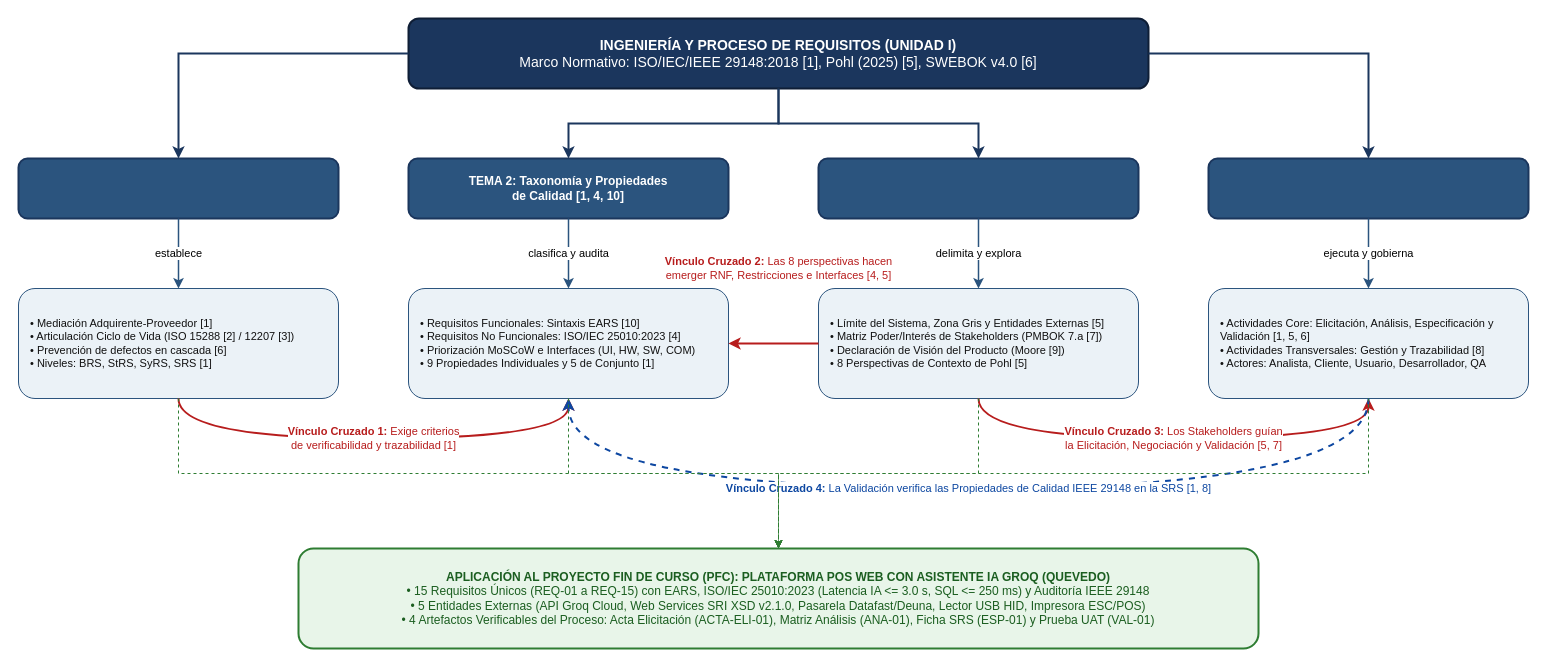
The diagram is 1546 pixels wide and 666 high, and some of its shapes have lost their labels. The shapes that lost their labels are listed below. From the top down, each one's box as (x1, y1, x2, y2) in pixels, then its label:
(17, 157, 339, 219): TEMA 1: Fundamentos de IR y Marco Normativo [1, 6]
(817, 157, 1139, 219): TEMA 3: Contexto del Sistema y 8 Perspectivas [5, 7, 9]
(1207, 157, 1529, 219): TEMA 4: Proceso, Framework y Actores de IR [1, 5, 8]
